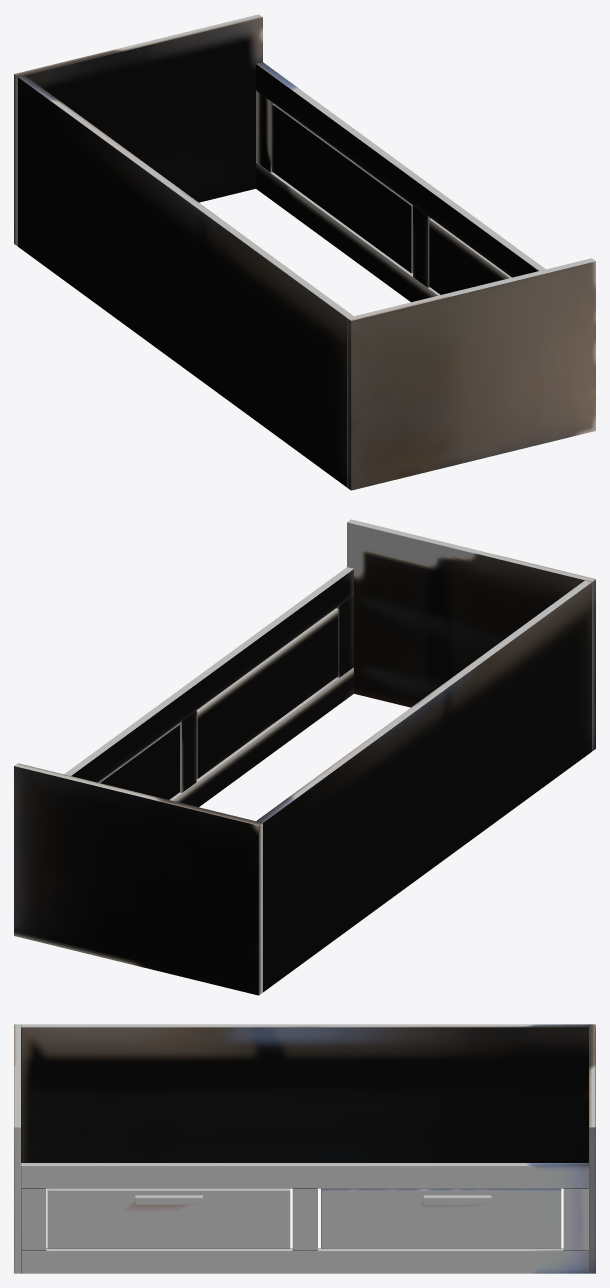
The picture shows the model from 3 angles, top to bottom: view 1: azimuth 30°, elevation 25°; view 2: azimuth 150°, elevation 25°; view 3: azimuth 270°, elevation 25°; orthographic projection. The views are drawn at different scales.
Parts seen in each view (by area): view 1: Cube.019; view 2: Cube.019; view 3: Cube.019.
Part boxes in pixels (x1,y1,x2,y2): Cube.019: (14, 14, 595, 490); Cube.019: (14, 519, 595, 995); Cube.019: (14, 1024, 595, 1273).
Bounding box in the file's own units: 0.8802 × 0.57 × 2.05.
Materials: 1 (1 with a texture image).
